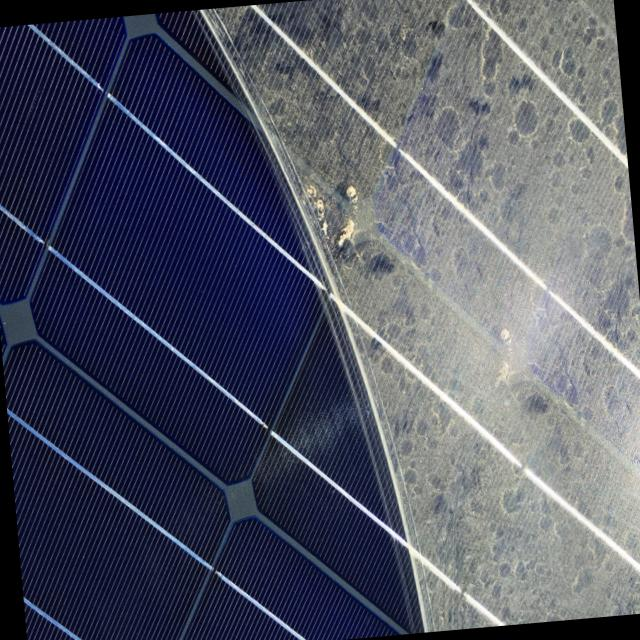faulty: (198, 0, 640, 632)
no faulty: (0, 10, 406, 640)
